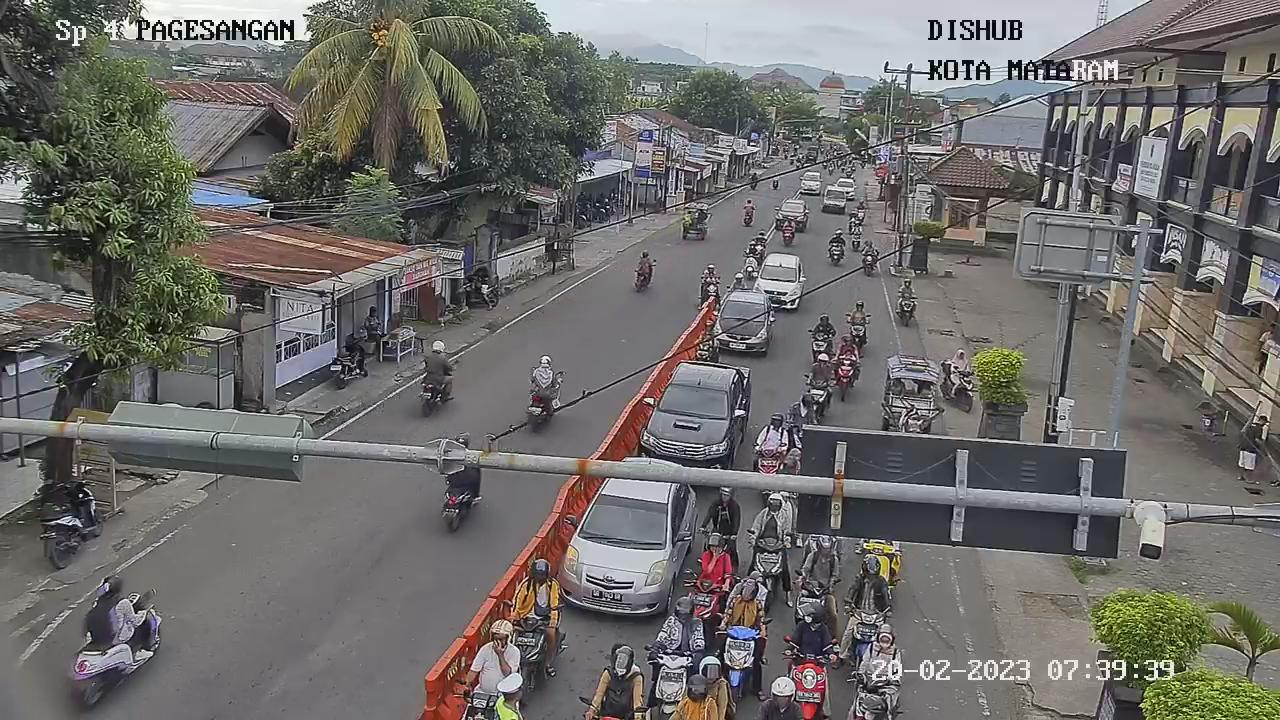car: (546, 449, 705, 618), (635, 348, 760, 471), (706, 281, 777, 358), (753, 250, 808, 312), (771, 194, 808, 238), (798, 167, 825, 200), (822, 180, 846, 214), (832, 172, 857, 202)
motorbike: (775, 628, 840, 720), (497, 607, 559, 697), (741, 526, 801, 604), (789, 562, 847, 637), (646, 640, 699, 720), (713, 621, 766, 697), (840, 593, 892, 656), (850, 668, 906, 720), (849, 537, 902, 587), (683, 569, 730, 622), (799, 372, 834, 427), (748, 435, 789, 478), (830, 352, 864, 399), (805, 329, 836, 373), (952, 364, 977, 414), (845, 311, 872, 349), (694, 277, 721, 309), (895, 291, 918, 324), (743, 248, 760, 280), (827, 240, 846, 268), (859, 250, 877, 277), (780, 225, 796, 247)
person: (79, 574, 150, 652), (580, 641, 645, 720), (509, 548, 565, 629), (780, 597, 840, 670), (645, 596, 705, 663), (843, 553, 895, 624), (469, 619, 515, 692), (686, 529, 736, 592), (799, 527, 844, 596), (855, 620, 903, 682), (677, 657, 723, 718), (747, 488, 795, 546), (723, 573, 773, 628), (750, 673, 805, 720), (704, 480, 743, 539), (752, 410, 791, 457), (421, 340, 457, 388), (529, 349, 559, 394), (806, 350, 836, 387), (946, 347, 974, 381), (835, 332, 862, 364), (844, 298, 872, 325), (811, 312, 836, 340), (700, 261, 721, 290), (726, 270, 748, 294), (827, 226, 847, 248), (636, 248, 653, 273), (897, 277, 916, 299), (859, 237, 878, 258), (753, 229, 769, 251), (742, 239, 759, 259), (779, 216, 796, 235), (742, 196, 756, 218), (850, 218, 864, 238)
